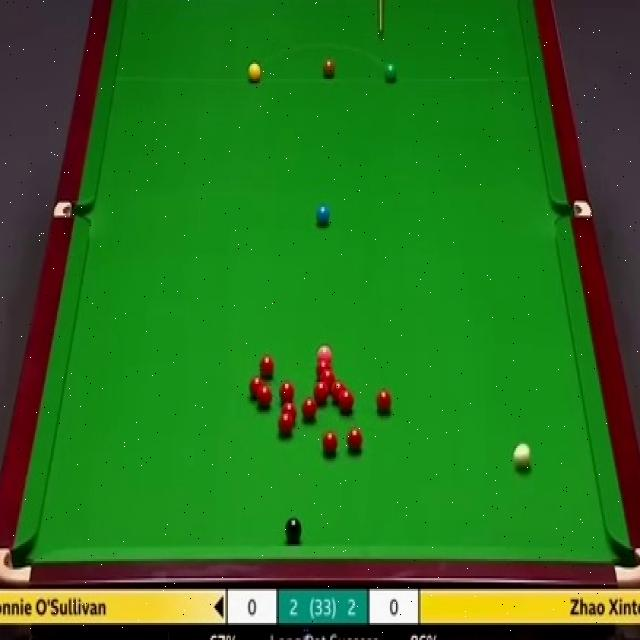black-ball: (283, 515, 302, 540)
blue-ball: (316, 206, 330, 224)
brown-ball: (324, 60, 336, 78)
green-ball: (383, 60, 398, 84)
pink-ball: (315, 353, 332, 369)
red-ball: (321, 430, 339, 456), (348, 426, 364, 452), (273, 413, 290, 437), (298, 398, 314, 423), (314, 381, 329, 406), (337, 389, 354, 411), (261, 355, 276, 379), (275, 381, 292, 402), (374, 390, 390, 412), (279, 406, 295, 427), (252, 385, 266, 409), (319, 369, 335, 389), (330, 378, 345, 398), (248, 374, 261, 396)
white-ball: (513, 442, 532, 466)
yellow-ball: (248, 62, 261, 83)
